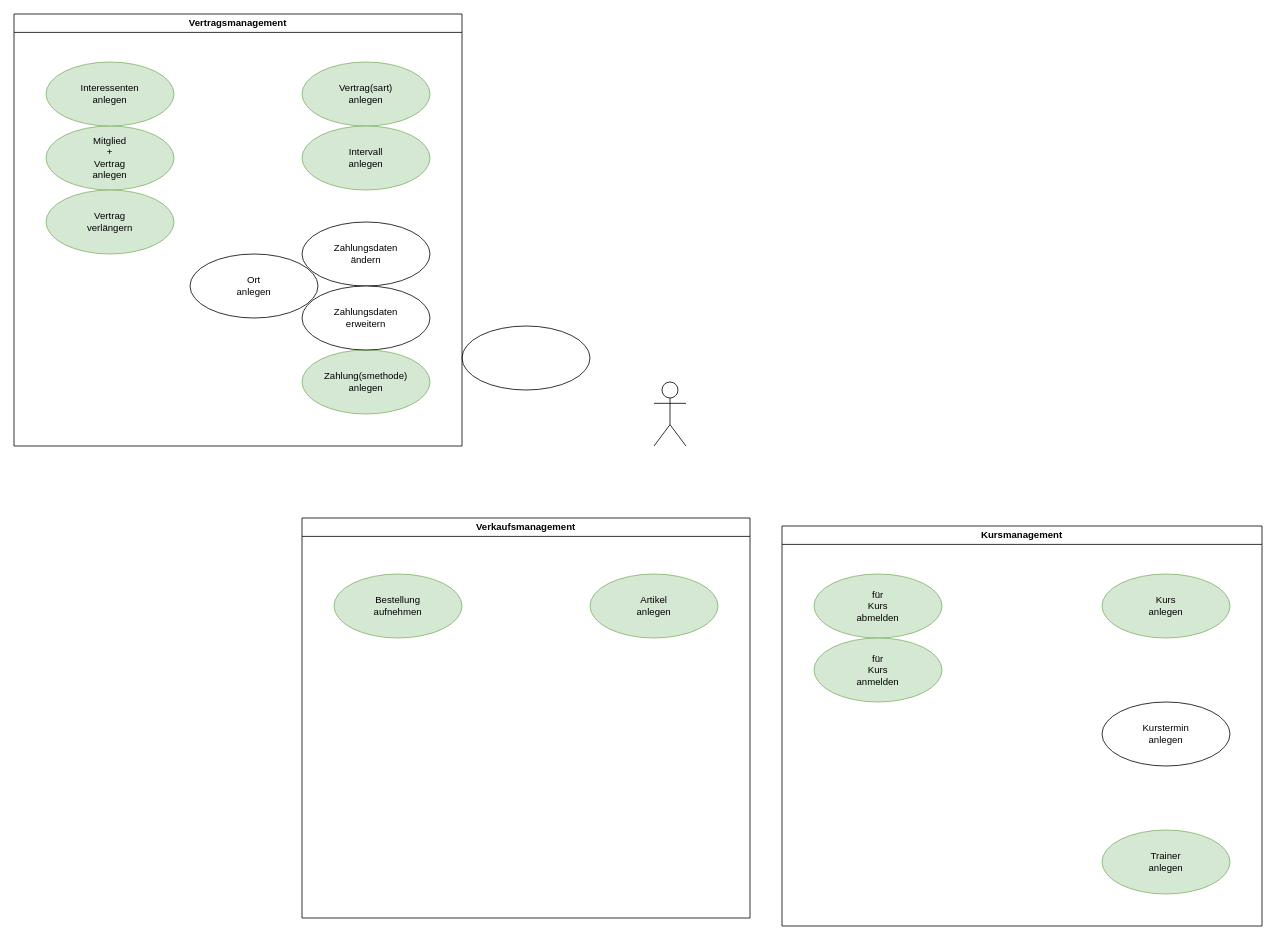
The diagram is 1276 pixels wide and 940 high, and some of its shapes have lost their labels. Each missing label, with the centre of its shape:
"Actor" goes at point 669,413.
"Use Case" goes at point 525,357.
